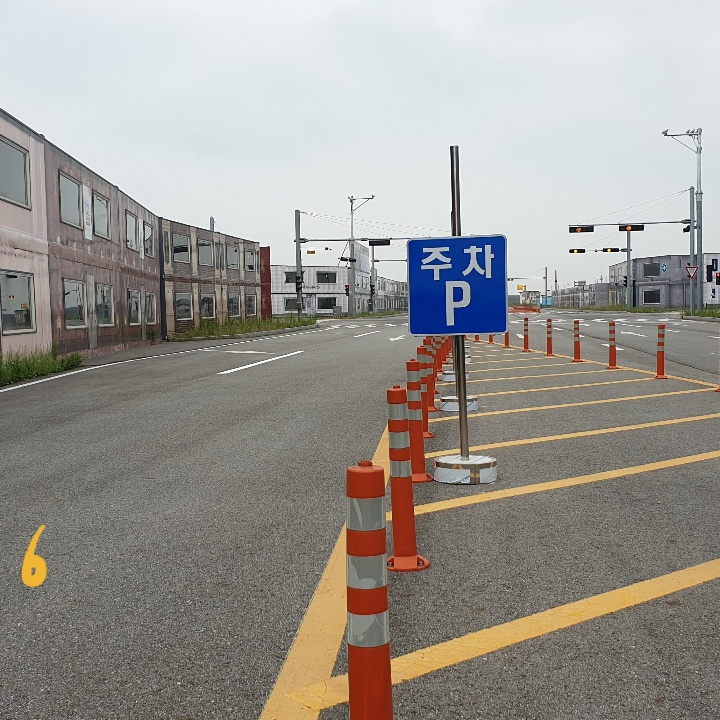parking: (438, 272, 476, 333)
